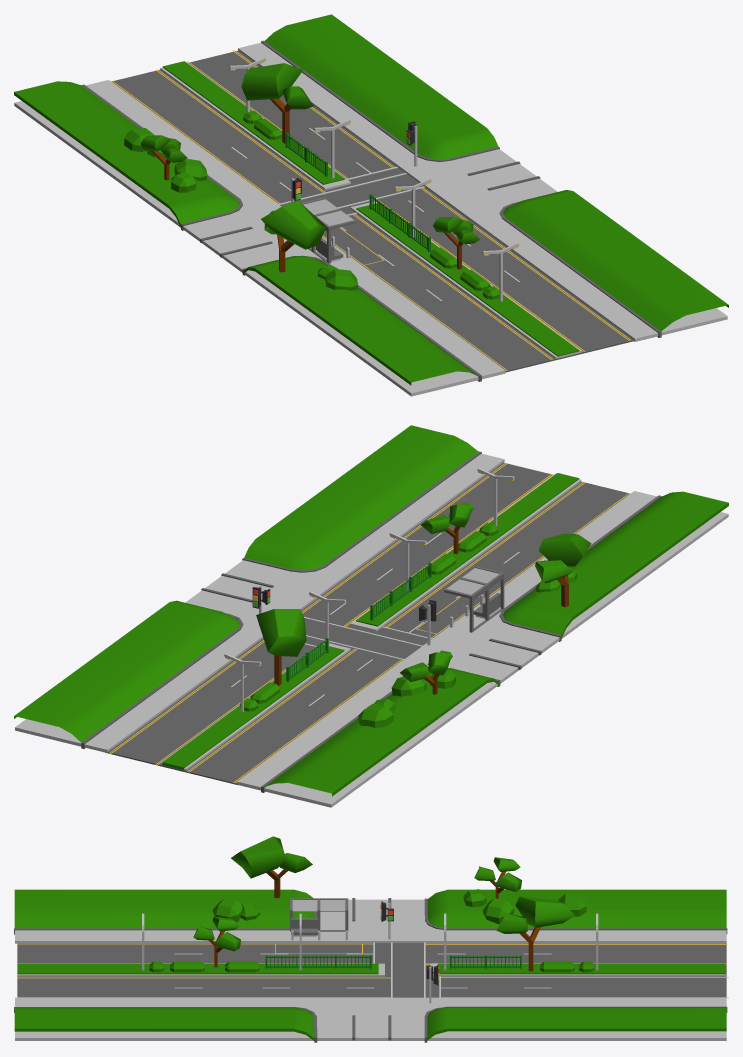
File: L3 Street.fbx
3 views of the same model, one above another, from view 1: azimuth 30°, elevation 25°; view 2: azimuth 150°, elevation 25°; view 3: azimuth 270°, elevation 25° (orthographic). The views are drawn at different scales.
Parts seen in each view (by area): view 1: pCube1636, pCube7013, pCube7012, pCube6979, pCube6977, pCube7009, pCube7008, pCube1639, pCube1666, pCube7016, pCube7014, Bus_stop4 (+6 smaller); view 2: pCube1636, pCube7013, pCube7012, pCube6977, pCube6979, pCube7009, pCube7008, pCube1639, pCube1666, pCube7016, pCube7014, Bus_stop4 (+8 smaller); view 3: pCube1636, pCube7012, pCube7013, pCube7009, pCube7008, pCube6977, pCube6979, pCube1639, pCube1666, pCube7016, pCube7014, Bus_stop4 (+18 smaller).
Boxes of the visible parts, <box> form: pCube1636: <box>111,50,633,372</box>; pCube7013: <box>14,80,505,396</box>; pCube7012: <box>238,42,727,341</box>; pCube6979: <box>264,14,498,159</box>; pCube6977: <box>503,190,728,331</box>; pCube7009: <box>243,256,477,385</box>; pCube7008: <box>14,81,239,227</box>; pCube1639: <box>356,203,579,356</box>; pCube1666: <box>162,61,344,184</box>; pCube7016: <box>241,63,313,143</box>; pCube7014: <box>261,200,326,272</box>; Bus_stop4: <box>301,197,356,263</box>; pCube1636: <box>105,462,629,785</box>; pCube7013: <box>237,491,728,807</box>; pCube7012: <box>15,453,504,752</box>; pCube6977: <box>244,425,478,570</box>; pCube6979: <box>14,600,239,742</box>; pCube7009: <box>503,491,728,639</box>; pCube7008: <box>264,668,498,796</box>; pCube1639: <box>356,473,579,626</box>; pCube1666: <box>162,645,344,770</box>; pCube7016: <box>256,609,306,685</box>; pCube7014: <box>535,533,591,607</box>; Bus_stop4: <box>444,566,504,632</box>; pCube1636: <box>17,943,726,997</box>; pCube7012: <box>15,997,726,1040</box>; pCube7013: <box>15,899,726,943</box>; pCube7009: <box>14,889,314,928</box>; pCube7008: <box>427,889,726,928</box>; pCube6977: <box>14,1007,314,1040</box>; pCube6979: <box>426,1007,726,1040</box>; pCube1639: <box>17,963,378,974</box>; pCube1666: <box>438,963,725,974</box>; pCube7016: <box>496,896,574,971</box>; pCube7014: <box>231,836,312,898</box>; Bus_stop4: <box>290,898,348,936</box>.
Size of the model in its own units: 12.37 by 3.04 by 26.67.
Materials: 1 (1 with a texture image).
